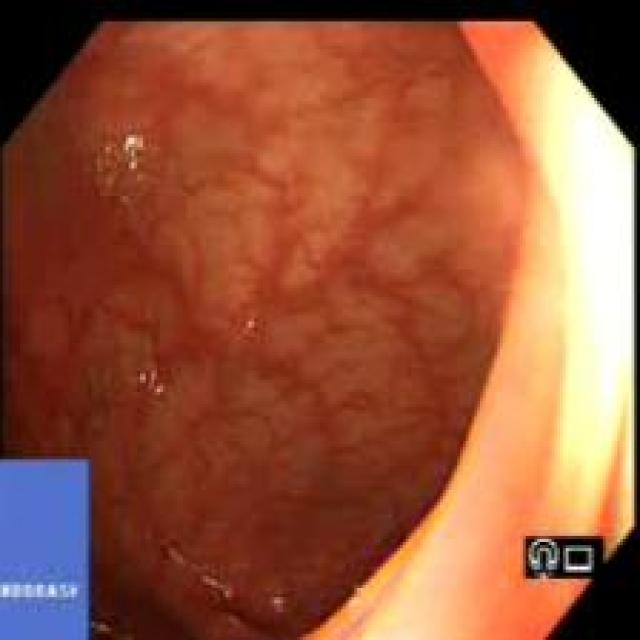color misalignment: (5, 463, 89, 638), (526, 540, 598, 583)
saturation: (526, 42, 635, 522)
specularity: (128, 140, 143, 169), (141, 376, 148, 387), (161, 389, 166, 395)
